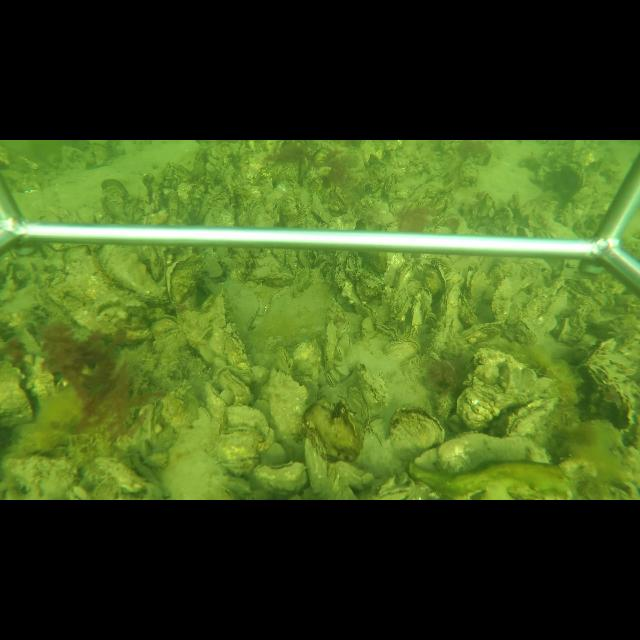Oyster-Closed: (434, 431, 551, 474), (178, 292, 242, 368), (575, 363, 638, 435), (260, 370, 314, 449), (98, 246, 163, 297), (455, 382, 521, 428), (506, 395, 560, 435), (165, 253, 204, 307), (252, 459, 306, 493), (212, 426, 263, 462), (304, 429, 332, 493), (342, 387, 369, 449), (226, 403, 270, 434), (491, 275, 520, 320), (216, 369, 253, 403), (203, 381, 229, 420), (245, 194, 277, 225), (440, 284, 462, 318), (385, 338, 422, 357), (466, 267, 486, 301), (323, 320, 337, 368), (270, 347, 294, 371), (514, 320, 537, 343), (264, 272, 293, 283), (324, 369, 338, 388), (298, 250, 313, 267)
Oyster-Open: (390, 403, 449, 448), (150, 314, 180, 340), (374, 321, 397, 341)
